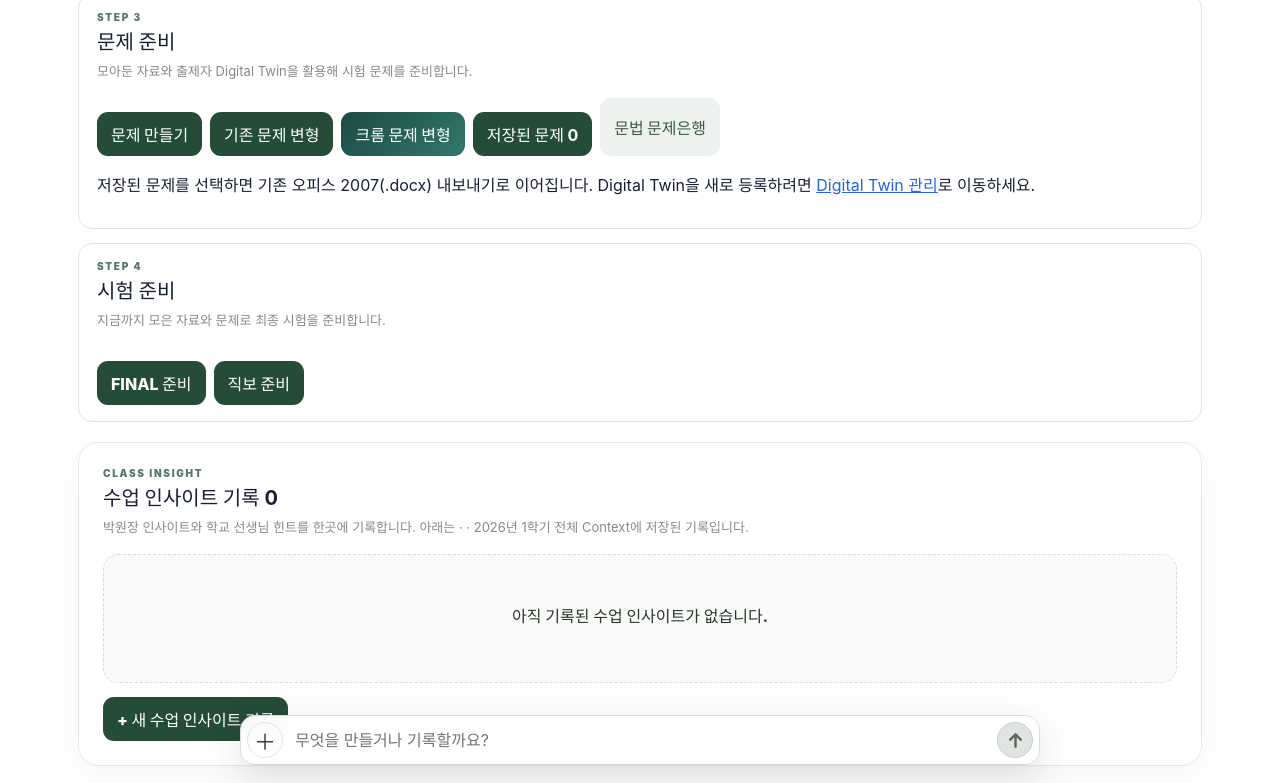
it: 내신 Wiki V1.1 시나리오 홈 › FINAL Workspace에는 FINAL 완성본을 저장하는 영역이 있고 결과 파일 또는 HTML 중 하나만 있으면 저장할 수 있다
(page scrolled)
Click the button "FINAL 준비". click: (151, 383)
box: [97, 361, 206, 405]
(page scrolled)
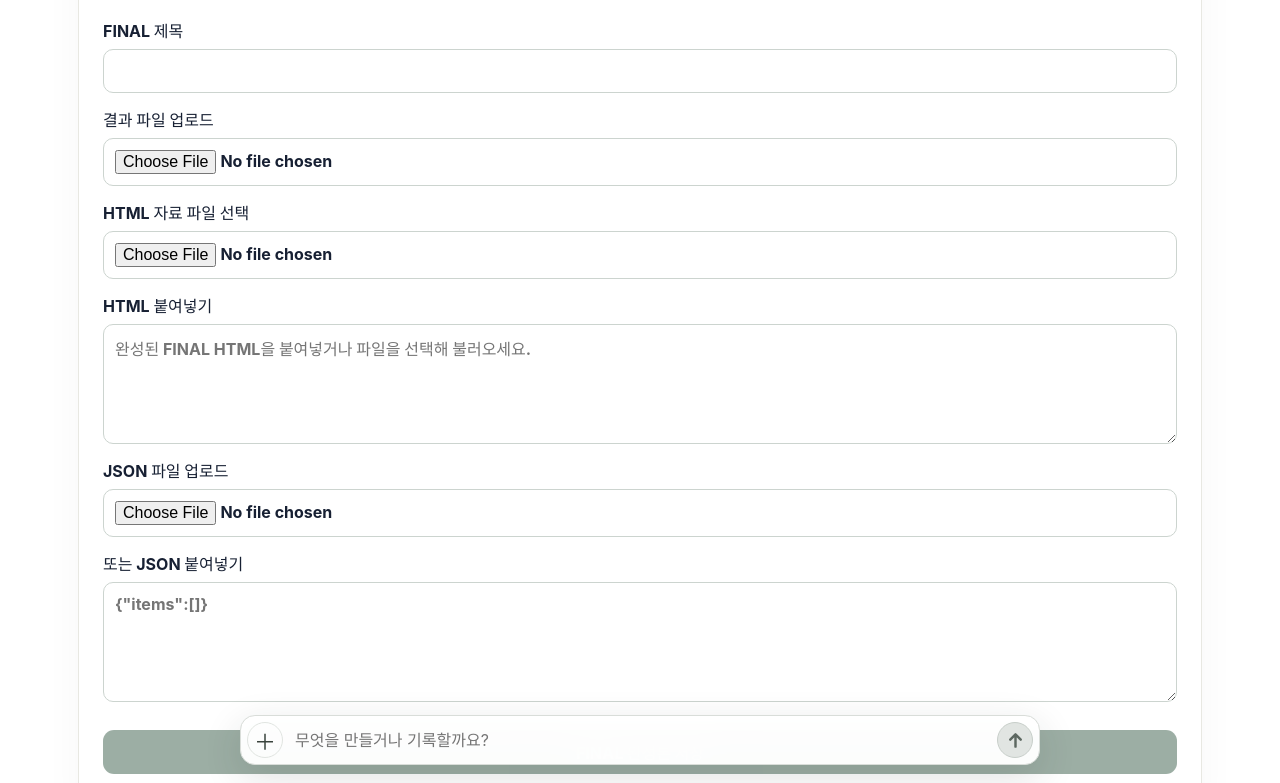
Check: the button "FINAL 완성본 저장" is disabled, box [103, 730, 1177, 774]
Type "<p>FINAL 완성본</p>" into the text box labelled "HTML 붙여넣기". click: (640, 384)
box: [103, 324, 1177, 444]
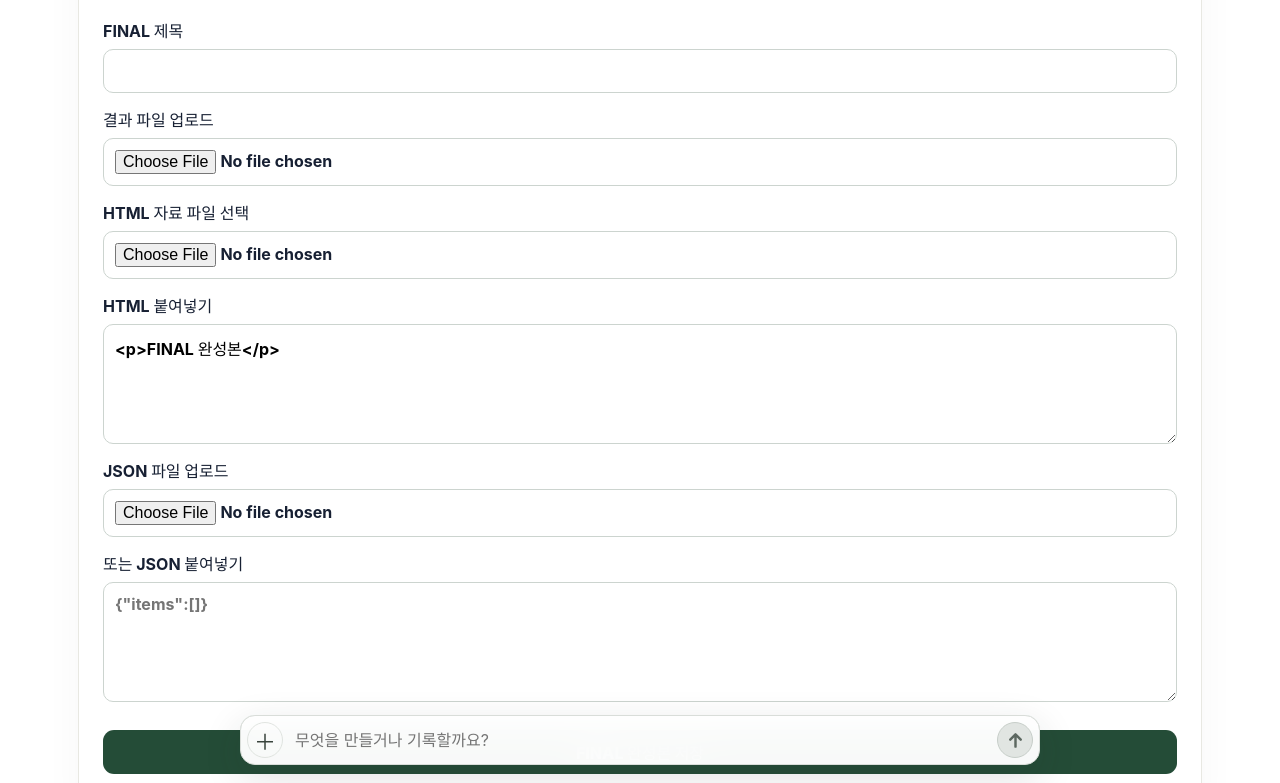
Check: the button "FINAL 완성본 저장" is enabled, box [103, 730, 1177, 774]
